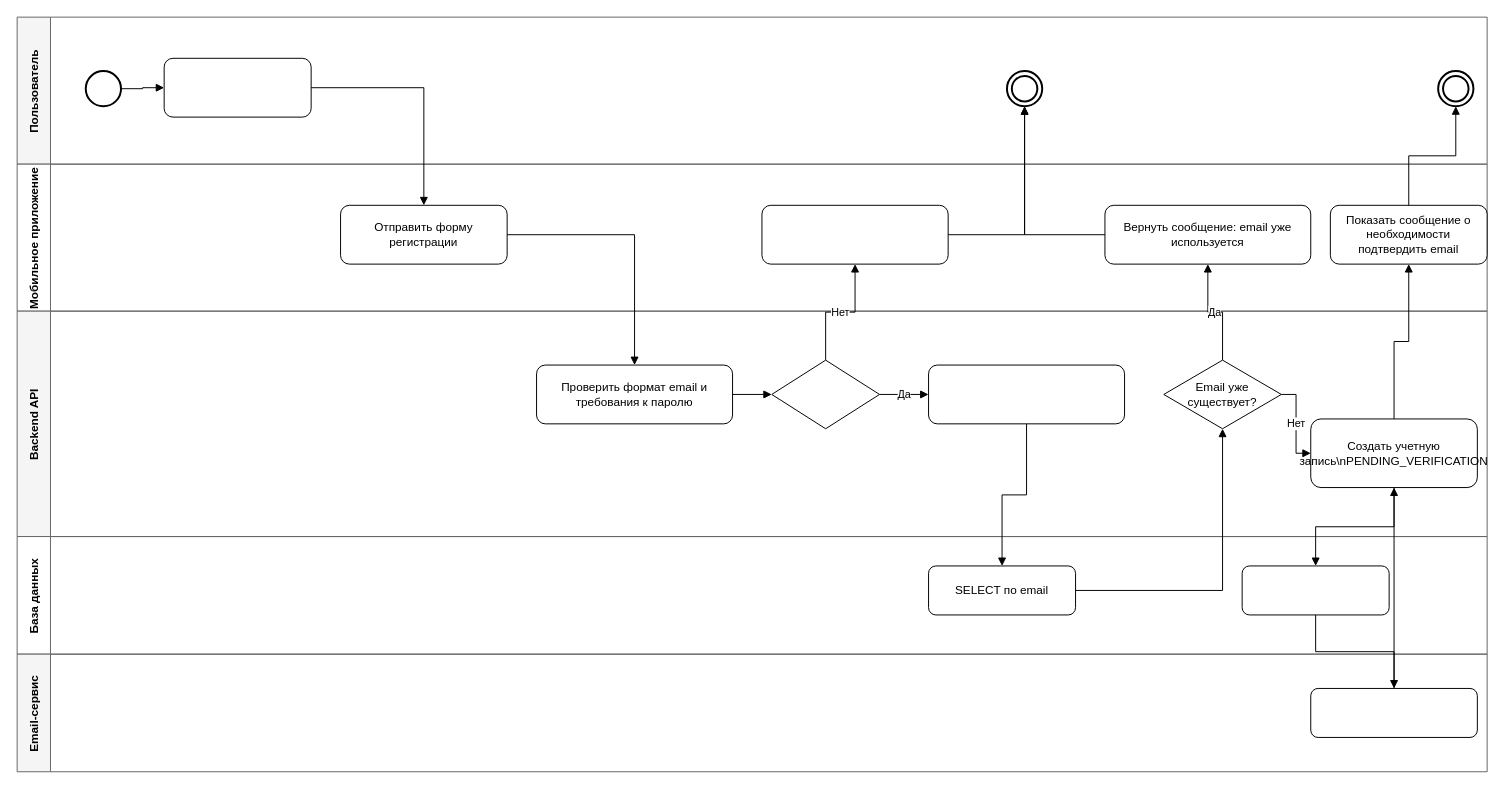
This 1505x789 diagram has some shape labels left out. The shapes that lost their labels are listed below. From the top down, each one's centre as x and y in pixels, then its label:
At [237,87]: "Ввести email и пароль".
At [854,234]: "Вернуть ошибку требований к паролю".
At [825,394]: "Пароль корректный?".
At [1026,394]: "Проверить наличие пользователя по email".
At [1315,590]: "INSERT пользователя".
At [1393,712]: "Отправить письмо подтверждения".
